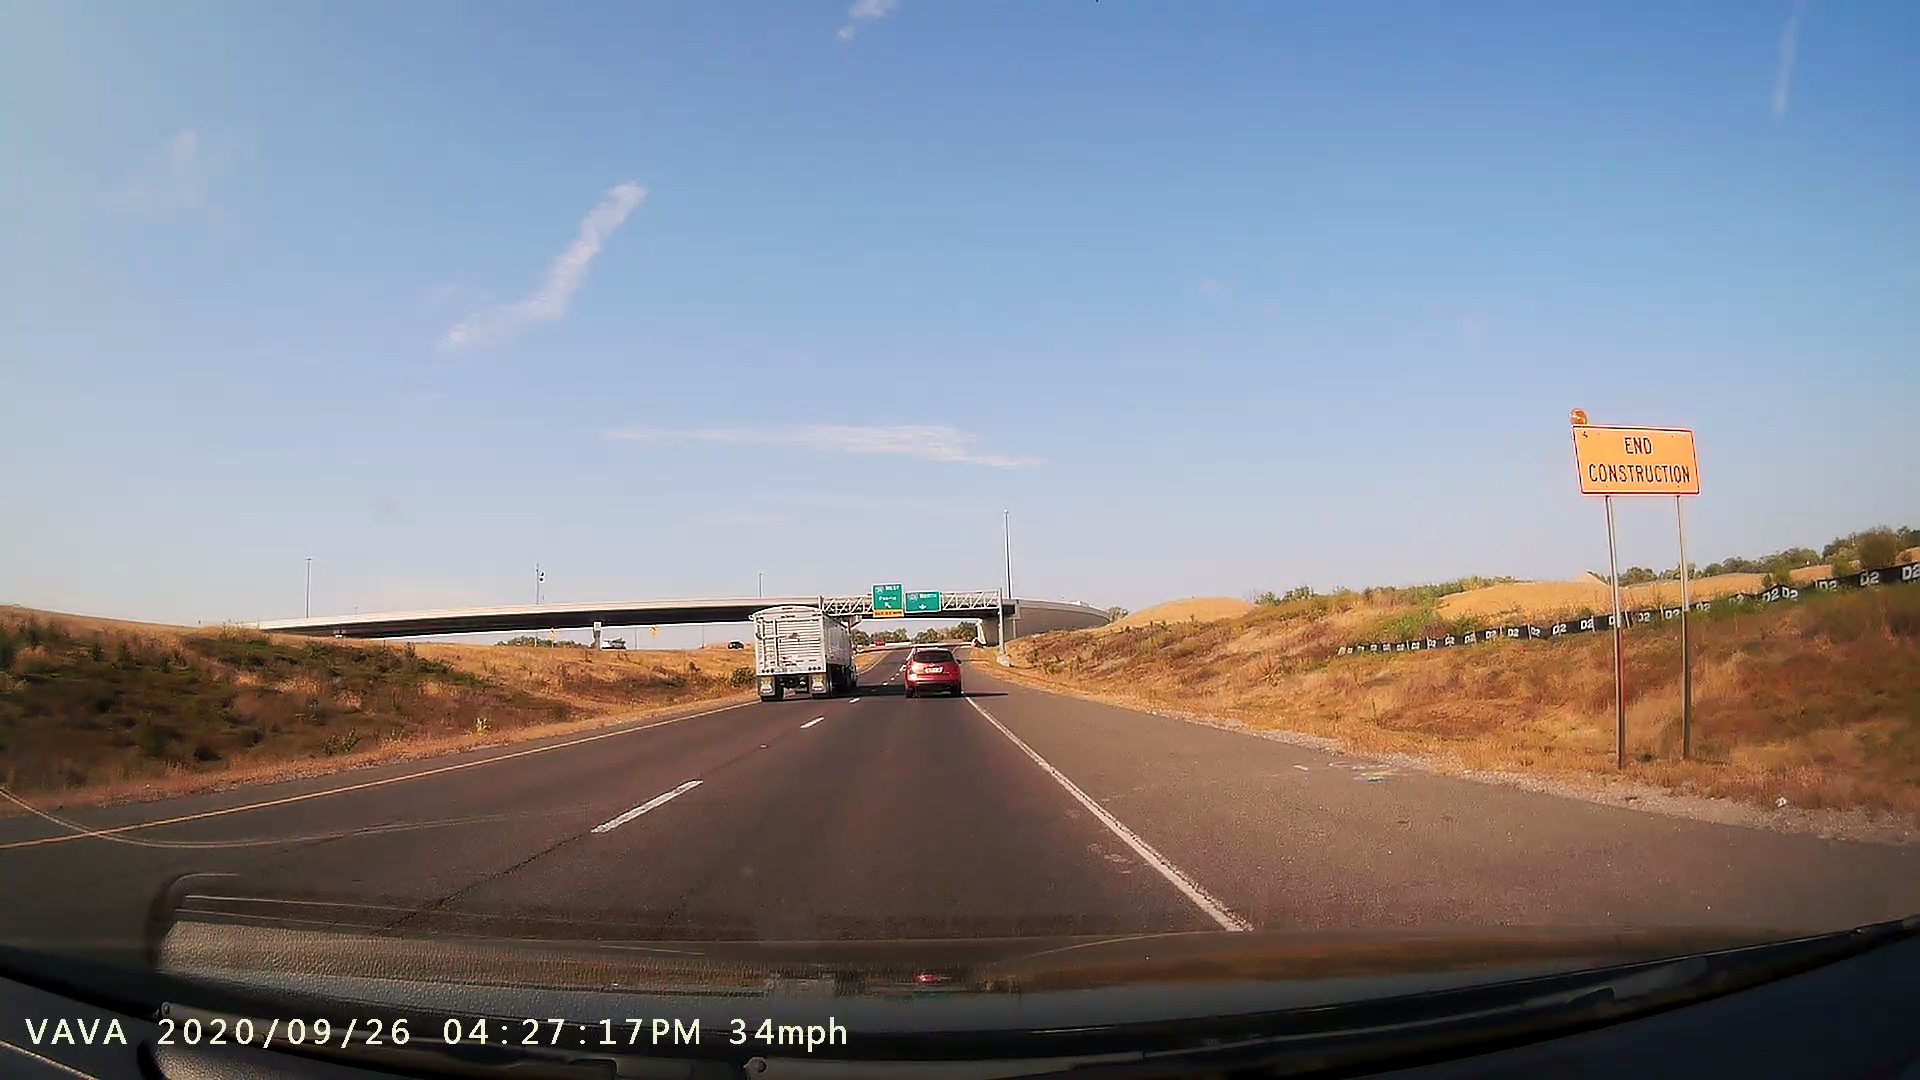ttcs_end_const: (1552, 397, 1727, 785)
